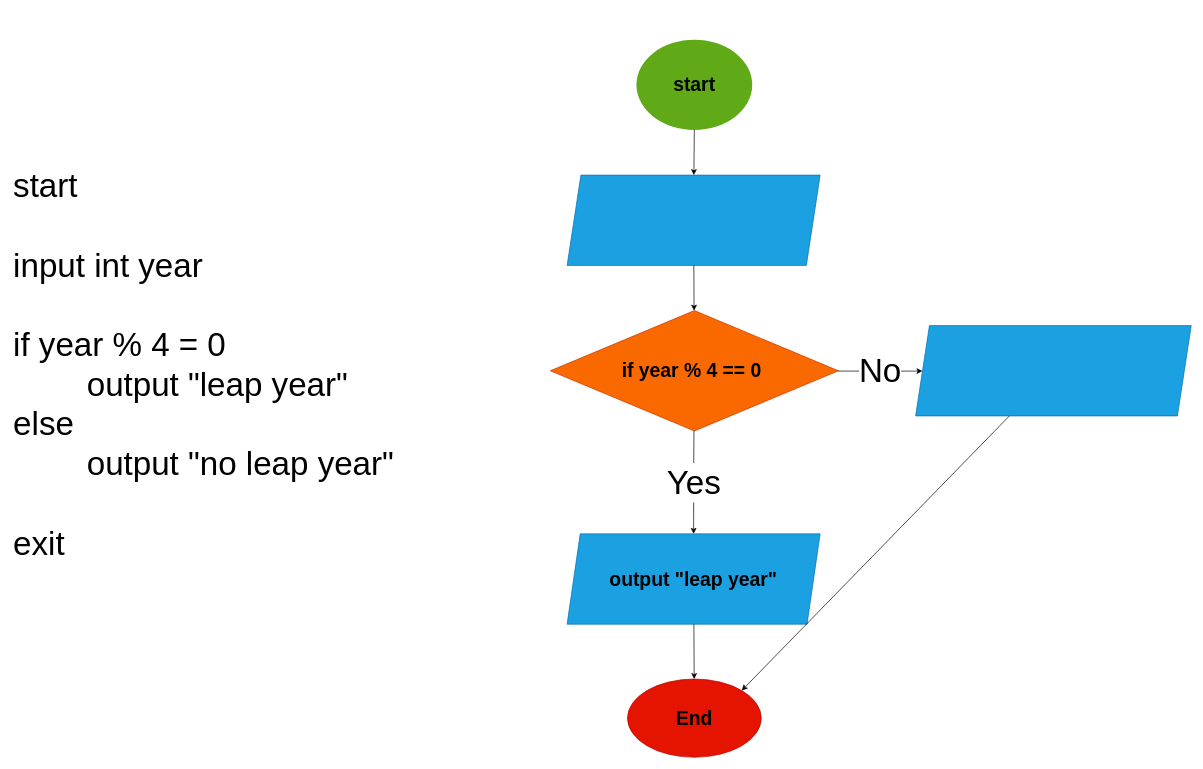
Image size: 1203x769. Some labels were removed from this diagram. Each missing label, with the box of its shape:
input int year: (566, 174, 820, 265)
output "not a leap year": (915, 325, 1191, 416)
